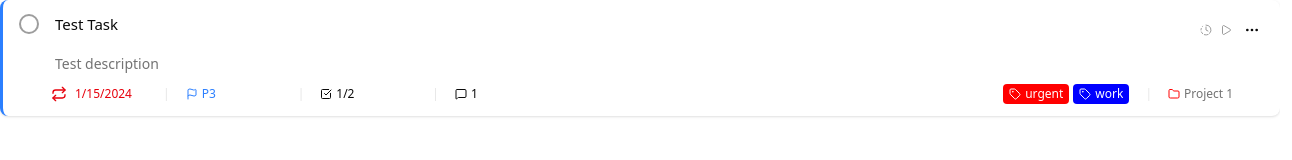
Test: TaskItem › Description Editing › updates description on content change
Later steps or results of the test are not shown.
// Click description to enter edit mode
What coordinates should you click on to do the following:
click the text "Test description"
I would click on:
 (107, 64)
Its box is [55,54,159,73].
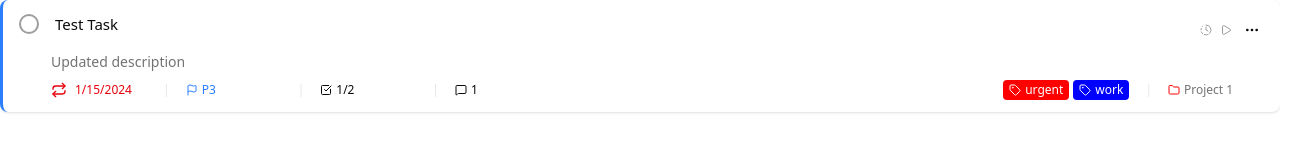
Expected: the text box with test id "editable-div" is shown, [51,52,185,71]
